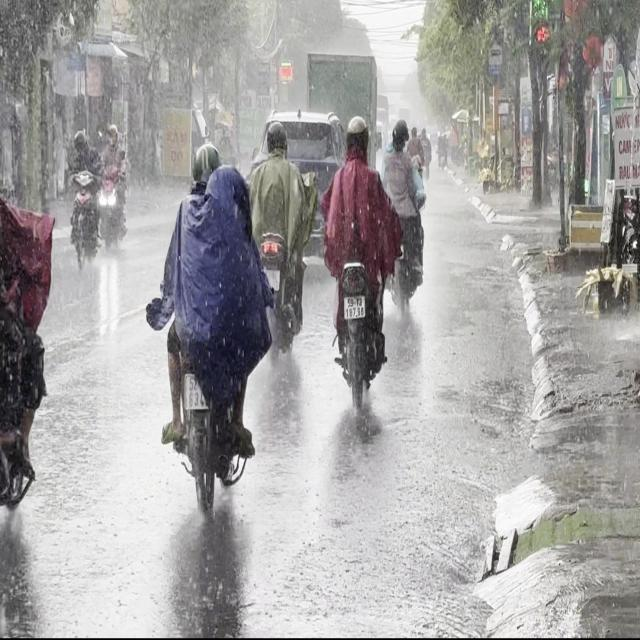helmet: (189, 142, 219, 190), (344, 114, 368, 158), (265, 119, 288, 157)
licenseplate: (153, 133, 274, 521), (0, 86, 55, 560), (321, 111, 397, 425)
nohelmet: (184, 374, 207, 408), (344, 294, 364, 318)
